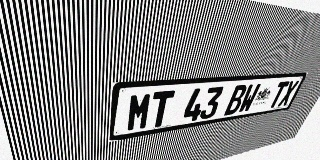3: (199, 86, 224, 120)
4: (182, 88, 208, 123)
B: (224, 84, 248, 116)
M: (126, 92, 153, 132)
T: (148, 90, 175, 128), (267, 81, 290, 108)
W: (237, 83, 261, 113)
X: (277, 80, 299, 107)
